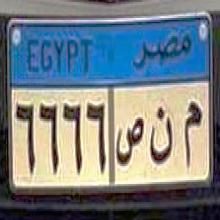6: (39, 99, 59, 174), (86, 99, 106, 171), (63, 99, 82, 174), (16, 98, 35, 172)
meem: (180, 88, 204, 173)
noon: (146, 97, 176, 174)
saad: (117, 111, 144, 166)
